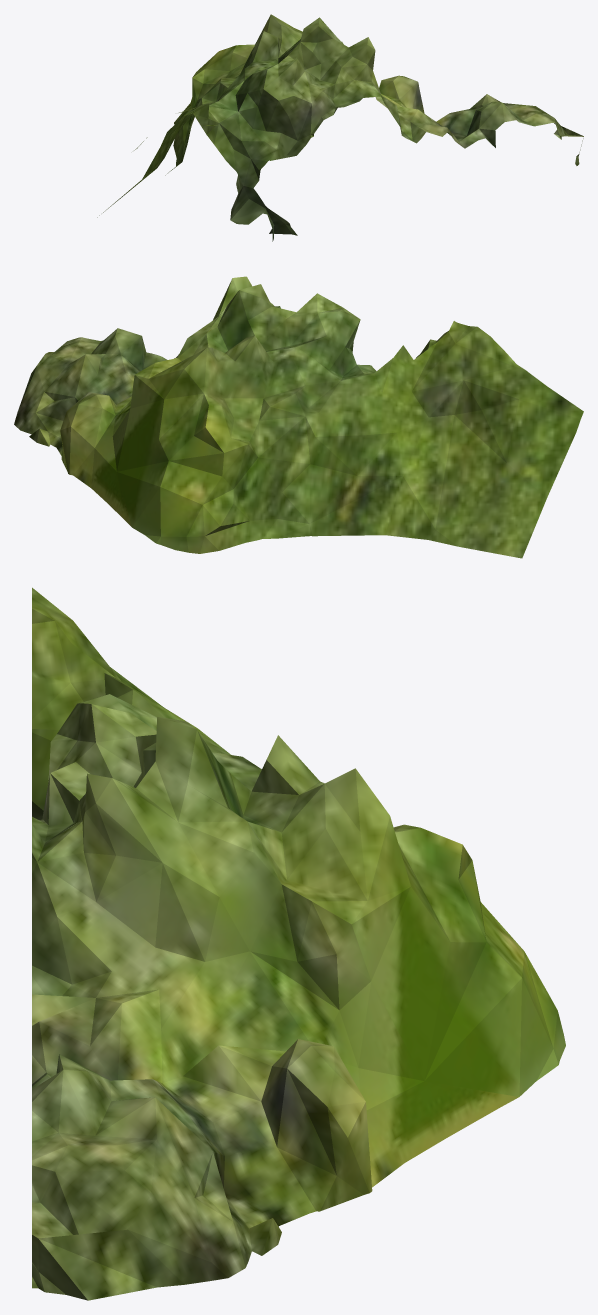
3 views of the same model, one above another, from view 1: azimuth 30°, elevation 25°; view 2: azimuth 150°, elevation 25°; view 3: azimuth 270°, elevation 25° (orthographic). The views are drawn at different scales.
Bounding box in the file's own units: 9.91 × 3.19 × 4.43.
Materials: 1 (1 with a texture image).
